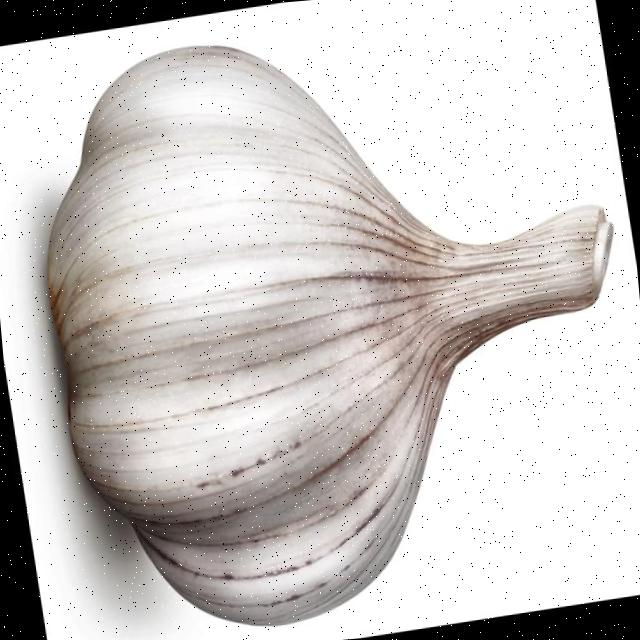garlic: (47, 47, 610, 623)
